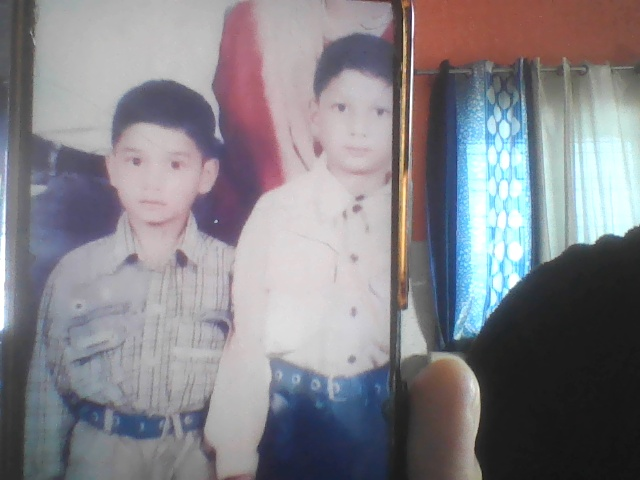fake: (287, 5, 427, 203), (114, 96, 213, 237)
